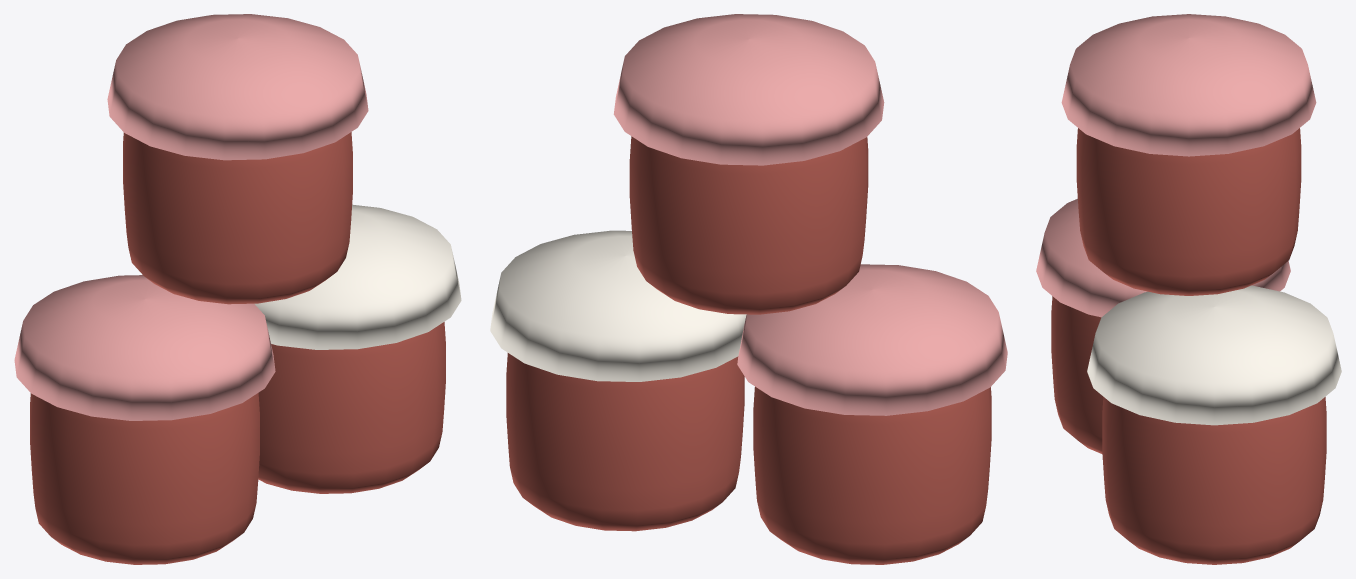
Rendered from apple_jam_jars.glb.
3 renders of one model, left to right at view 1: azimuth 30°, elevation 25°; view 2: azimuth 150°, elevation 25°; view 3: azimuth 270°, elevation 25°, orthographic. The views are drawn at different scales.
Visible parts, largest first — view 1: apple_jam_jars_mesh; view 2: apple_jam_jars_mesh; view 3: apple_jam_jars_mesh.
Boxes of the visible parts, x1,y1,x2,y2 form: apple_jam_jars_mesh: (14,14,461,564); apple_jam_jars_mesh: (490,14,1007,564); apple_jam_jars_mesh: (1036,14,1341,564).
Size of the model in its own units: 0.29 by 0.2862 by 0.18.
